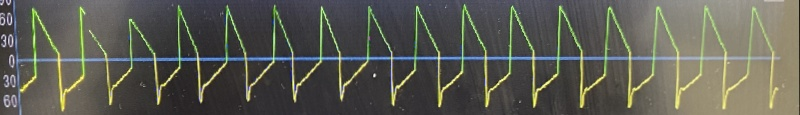peepi: (20, 0, 788, 113)
